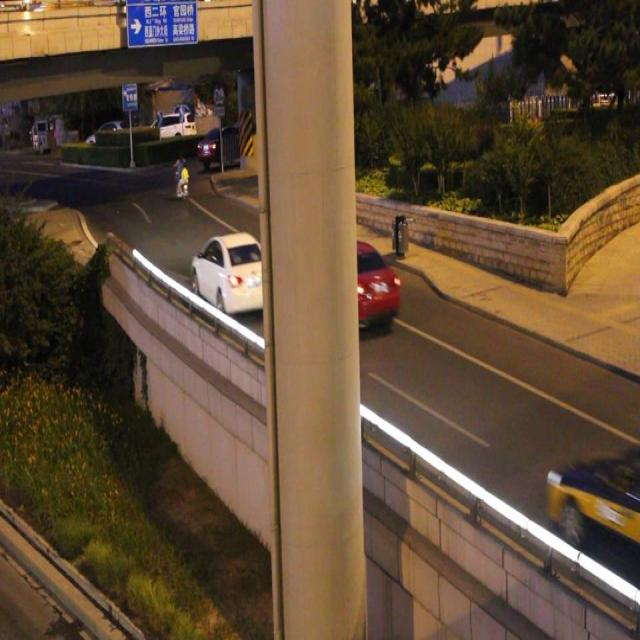car: (548, 433, 640, 589), (301, 236, 400, 332), (190, 231, 273, 318)
